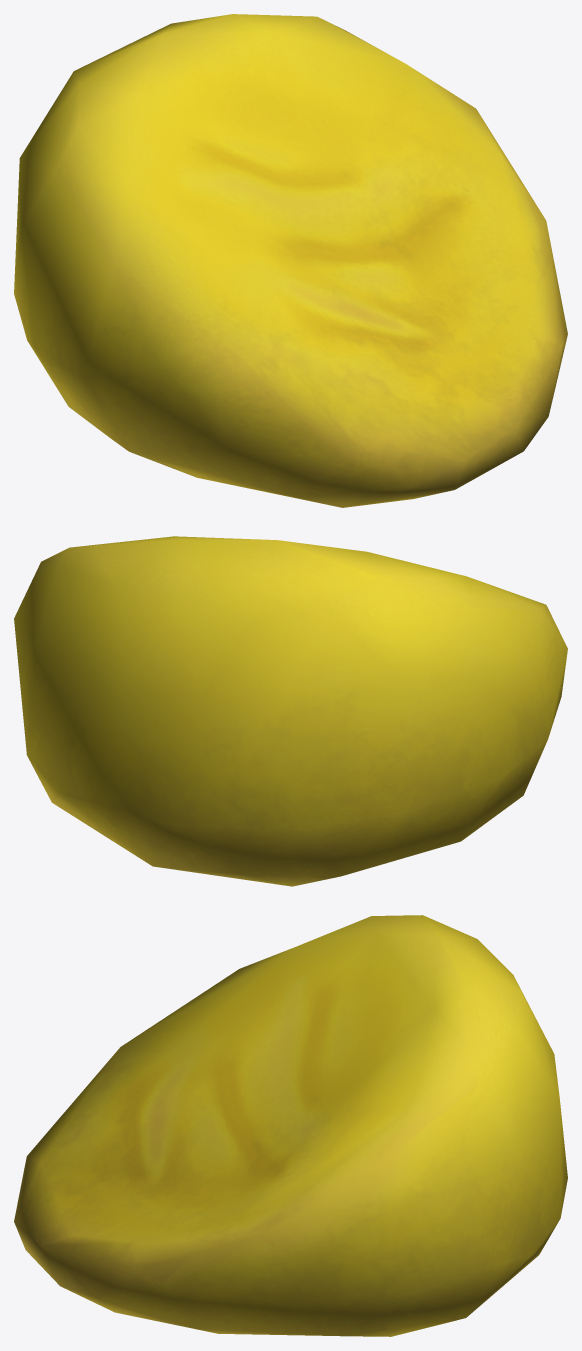
Rendered from SM_ChillBag_yellow.glb.
The picture shows the model from 3 angles, top to bottom: view 1: azimuth 30°, elevation 25°; view 2: azimuth 150°, elevation 25°; view 3: azimuth 270°, elevation 25°; orthographic projection. The views are drawn at different scales.
Parts seen in each view (by area): view 1: SM_ChillBag_yellow; view 2: SM_ChillBag_yellow; view 3: SM_ChillBag_yellow.
Part boxes in pixels (x1,y1,x2,y2): SM_ChillBag_yellow: [14, 14, 567, 507]; SM_ChillBag_yellow: [14, 536, 567, 886]; SM_ChillBag_yellow: [14, 915, 567, 1336].
Size of the model in its own units: 1.07 by 0.7346 by 1.17.
1 material, 1 textured.
